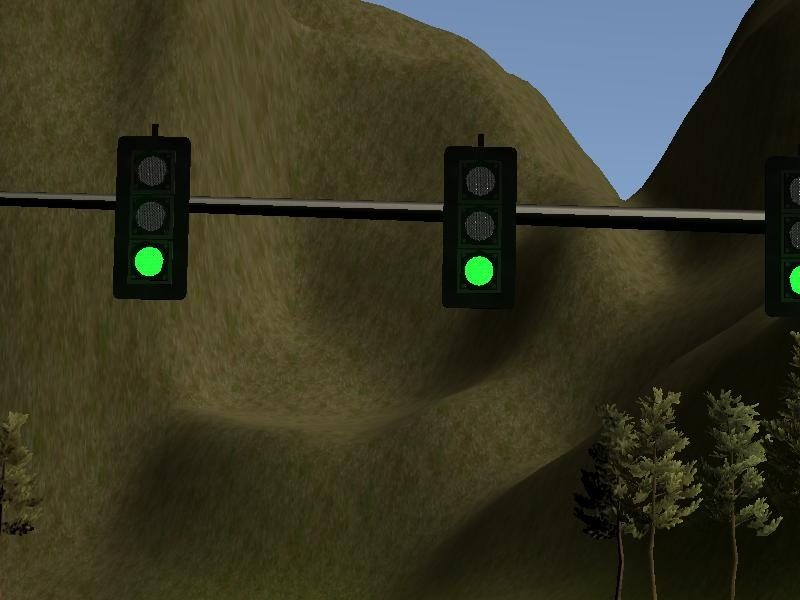GREEN: (107, 130, 198, 308), (436, 142, 522, 310)
